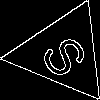S: (37, 28, 100, 82)
